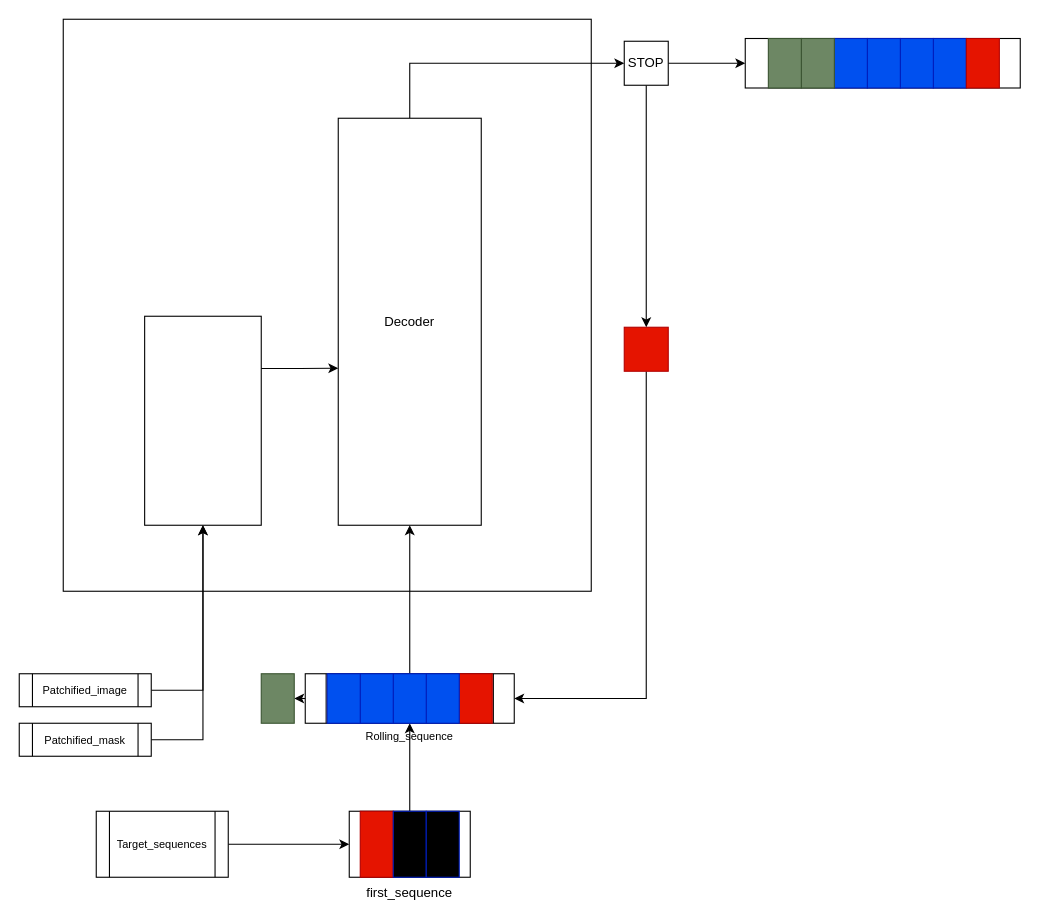
Image size: 1040x920. Some labels were removed from this diagram. Each missing label, with the box of its shape:
Encoder: (144, 315, 261, 525)
Output_sequence: (744, 37, 1020, 88)
x y: (623, 326, 668, 371)
